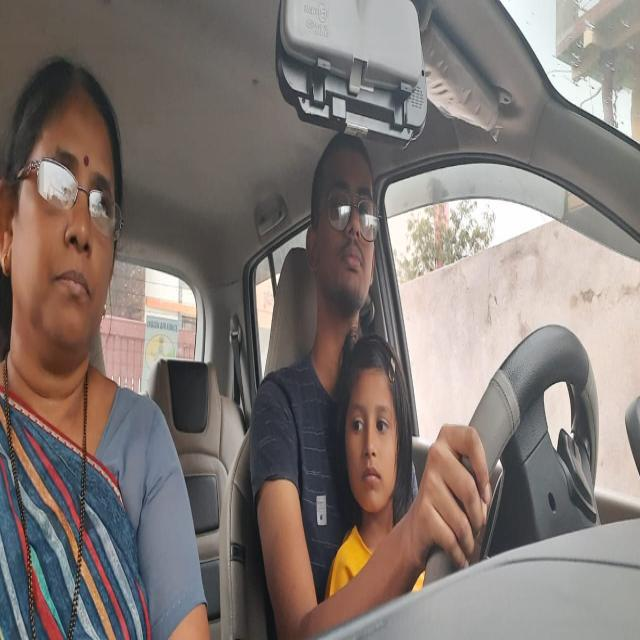child: (334, 328, 414, 520)
person: (2, 51, 132, 408), (296, 98, 394, 307)
